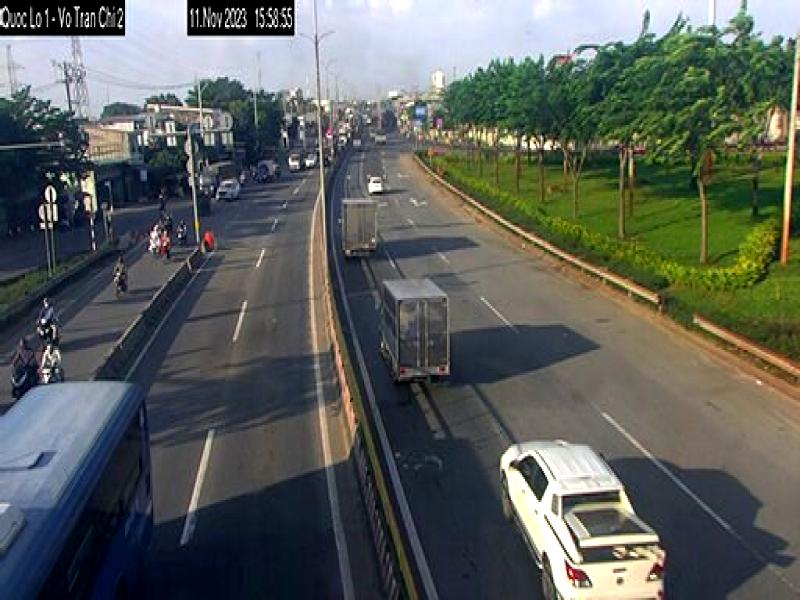bus: (0, 375, 152, 600)
truck: (375, 277, 452, 391), (336, 194, 378, 259)
